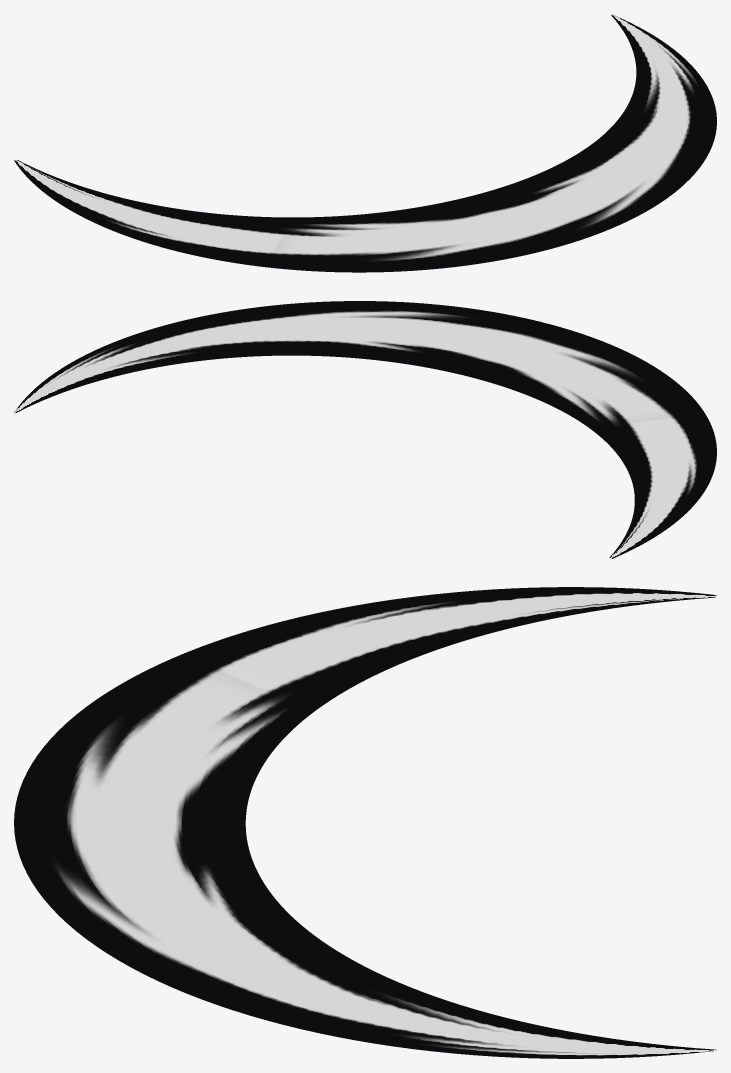
Rendered from exm_nv_daoguang005.FBX.
The picture shows the model from 3 angles, top to bottom: view 1: azimuth 30°, elevation 25°; view 2: azimuth 150°, elevation 25°; view 3: azimuth 270°, elevation 25°; orthographic projection. The views are drawn at different scales.
Visible parts, largest first — view 1: exm_nv_daoguang005; view 2: exm_nv_daoguang005; view 3: exm_nv_daoguang005.
Part boxes in pixels (x1,y1,x2,y2): exm_nv_daoguang005: (14, 14, 716, 272); exm_nv_daoguang005: (14, 301, 716, 558); exm_nv_daoguang005: (14, 587, 716, 1058).
Bounding box in the file's own units: 375 × 0.0308 × 236.
